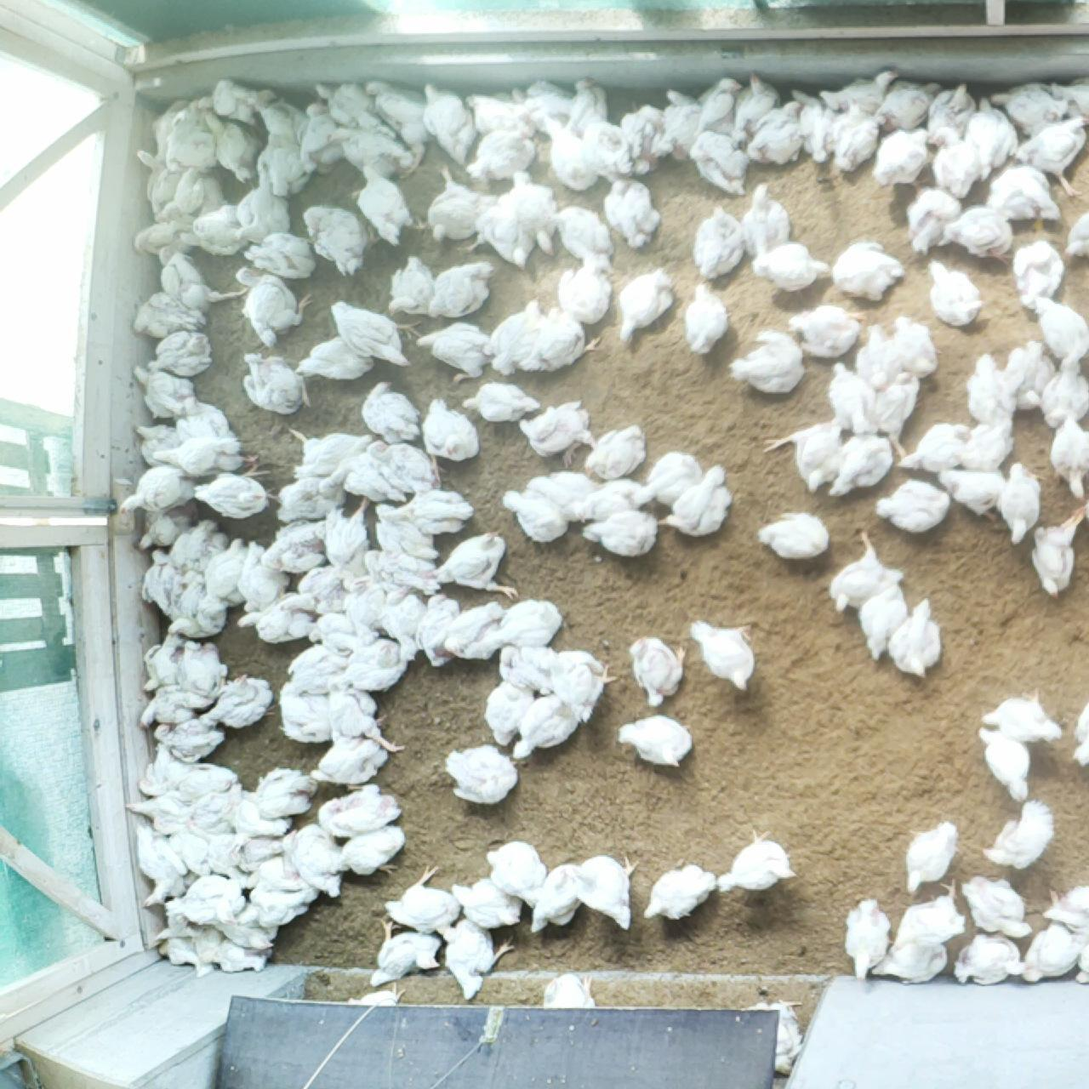chicken: (761, 416, 872, 494), (1020, 489, 1089, 604), (361, 906, 445, 993), (655, 456, 740, 540), (432, 531, 527, 605), (1014, 108, 1089, 200), (436, 916, 512, 1004), (833, 885, 901, 982), (157, 238, 246, 312), (563, 847, 643, 929), (976, 800, 1062, 876), (522, 301, 606, 377), (727, 324, 807, 403), (830, 235, 911, 313), (885, 877, 969, 951), (599, 170, 665, 264), (862, 370, 928, 463), (515, 397, 605, 465), (688, 614, 764, 694), (301, 199, 374, 282), (380, 858, 466, 928), (814, 521, 888, 602), (985, 154, 1068, 226), (719, 824, 802, 894), (622, 630, 692, 713), (440, 739, 524, 808), (491, 587, 570, 660), (472, 187, 540, 271), (421, 72, 481, 167), (321, 123, 421, 180), (750, 995, 817, 1079), (742, 93, 815, 170), (278, 823, 350, 901), (894, 417, 983, 480), (415, 319, 501, 384), (325, 686, 404, 756), (984, 76, 1070, 140), (610, 709, 696, 773), (964, 719, 1037, 794), (959, 869, 1032, 944), (1008, 231, 1076, 311), (924, 247, 988, 332), (485, 296, 553, 376), (380, 486, 482, 539), (483, 844, 562, 912), (613, 264, 674, 352), (551, 647, 619, 725), (349, 160, 416, 239), (946, 923, 1026, 989), (1024, 288, 1089, 369), (425, 160, 487, 244), (324, 298, 404, 363), (234, 214, 316, 277), (685, 117, 752, 194), (993, 458, 1049, 550), (509, 162, 563, 257), (320, 774, 410, 831), (556, 246, 620, 326), (749, 508, 831, 570), (857, 575, 916, 661), (278, 419, 368, 475), (240, 871, 320, 934), (934, 461, 1011, 526), (564, 479, 666, 528), (166, 563, 230, 641), (867, 473, 950, 533), (512, 695, 582, 766), (695, 197, 752, 284), (256, 515, 329, 582), (232, 263, 306, 329), (150, 434, 260, 478), (278, 456, 348, 525), (980, 687, 1071, 740), (551, 196, 616, 270), (791, 298, 869, 359), (373, 248, 440, 319), (889, 596, 947, 678), (894, 180, 958, 254), (495, 487, 572, 548), (248, 768, 322, 831), (127, 134, 183, 217), (585, 413, 653, 481), (678, 272, 728, 364), (444, 877, 526, 933), (870, 71, 946, 131), (751, 234, 827, 294), (428, 255, 501, 317), (367, 441, 445, 499), (903, 813, 958, 895), (815, 65, 907, 114), (744, 176, 797, 260), (368, 77, 428, 151), (119, 213, 204, 265), (235, 593, 315, 648), (637, 866, 714, 923), (887, 304, 944, 381), (958, 349, 1015, 426), (255, 126, 318, 195), (650, 81, 705, 160), (472, 676, 533, 747), (358, 540, 441, 592), (825, 438, 899, 496), (273, 675, 338, 741), (338, 440, 403, 506), (345, 635, 413, 698), (139, 763, 236, 807), (965, 85, 1019, 164), (321, 81, 392, 141), (422, 399, 487, 464), (446, 600, 510, 666), (205, 671, 279, 728), (1028, 350, 1089, 419), (1018, 922, 1080, 989), (874, 128, 942, 189), (190, 472, 263, 528), (131, 92, 184, 169), (114, 470, 192, 522), (132, 812, 177, 902), (934, 124, 984, 204), (326, 498, 380, 572), (227, 787, 295, 845), (117, 688, 216, 727), (175, 876, 247, 929), (636, 450, 704, 506), (820, 358, 876, 426), (201, 532, 248, 613), (233, 536, 288, 605), (379, 579, 423, 665), (204, 110, 258, 180), (1007, 340, 1059, 412), (185, 194, 246, 255), (235, 181, 298, 239), (792, 82, 836, 165), (236, 346, 301, 402), (132, 631, 197, 687), (303, 611, 382, 657), (296, 332, 367, 383), (582, 114, 639, 177), (336, 832, 405, 884), (363, 369, 419, 433), (131, 498, 196, 553), (192, 934, 268, 981), (466, 385, 540, 433), (493, 641, 564, 691), (577, 500, 649, 549), (1047, 409, 1089, 493), (131, 288, 200, 338), (542, 112, 590, 183), (294, 96, 338, 172), (411, 590, 455, 666), (314, 738, 391, 781), (147, 726, 224, 769), (174, 784, 244, 831), (956, 421, 1018, 473), (148, 329, 218, 375), (874, 937, 947, 981), (282, 644, 341, 697), (922, 81, 979, 135), (130, 359, 187, 412), (827, 121, 878, 179), (523, 70, 573, 129), (734, 68, 778, 133), (469, 88, 534, 132), (277, 560, 338, 606), (167, 171, 220, 223), (561, 74, 612, 127), (539, 968, 602, 1010), (1043, 875, 1089, 932), (852, 324, 898, 381), (158, 127, 216, 172), (208, 75, 267, 119), (179, 643, 230, 691), (168, 839, 220, 886), (704, 74, 747, 130), (123, 417, 179, 459), (628, 103, 664, 168), (545, 469, 590, 521), (255, 91, 304, 138), (344, 576, 389, 627), (137, 545, 171, 610), (170, 392, 221, 432), (119, 794, 174, 831), (175, 89, 213, 140), (165, 522, 220, 555), (347, 984, 412, 1010), (148, 932, 196, 967), (222, 921, 276, 952), (204, 838, 243, 878), (1059, 218, 1089, 268), (1055, 73, 1089, 115), (238, 828, 277, 864)
